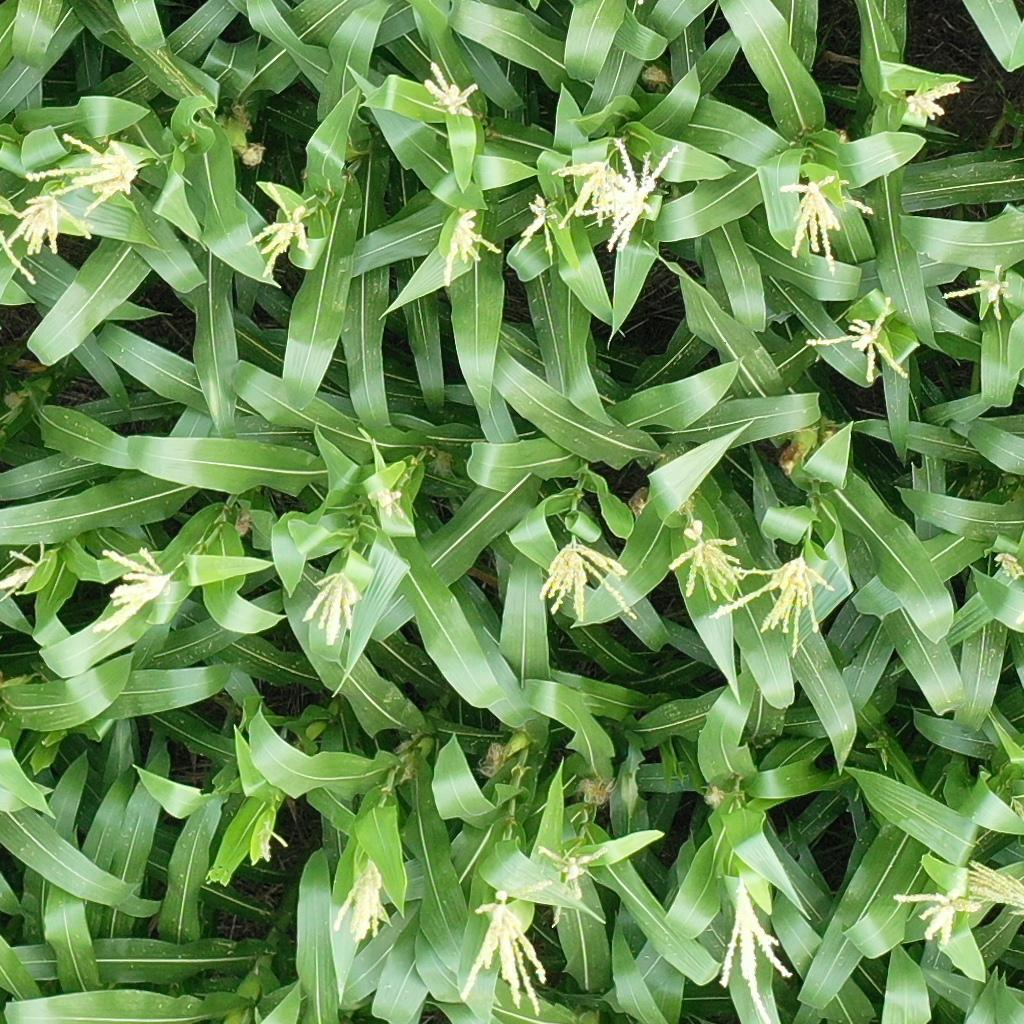Tassel: (710, 555, 837, 658), (464, 875, 552, 1016), (713, 879, 796, 1024), (579, 136, 682, 251), (778, 170, 878, 274), (803, 295, 915, 384), (28, 133, 143, 218), (537, 541, 644, 628), (86, 545, 176, 636), (666, 520, 746, 606), (245, 179, 313, 280), (1, 192, 93, 258), (539, 842, 610, 925), (300, 571, 364, 652), (330, 856, 391, 940), (895, 886, 980, 945), (441, 205, 502, 287), (940, 261, 1015, 323), (552, 158, 610, 228), (961, 858, 1023, 919), (422, 63, 483, 120), (516, 195, 560, 263), (905, 78, 962, 124), (1, 542, 46, 592), (370, 486, 414, 523), (254, 821, 288, 863), (995, 549, 1024, 580), (1009, 794, 1024, 822)
